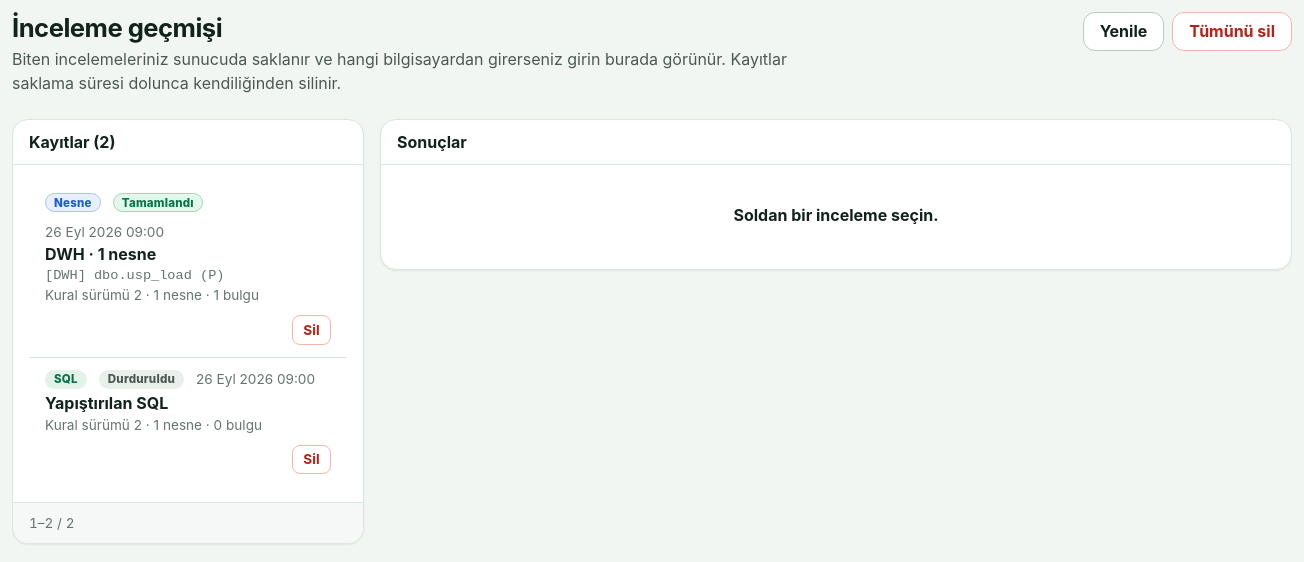
Test: review history page › disables SQL download for a run without stored SQL and explains a stopped run
Click the button with aria-label "Yapıştırılan SQL — Durduruldu, 26 Eyl 2026 09:00".
click(66, 379)  # box 29,358 -> 347,445
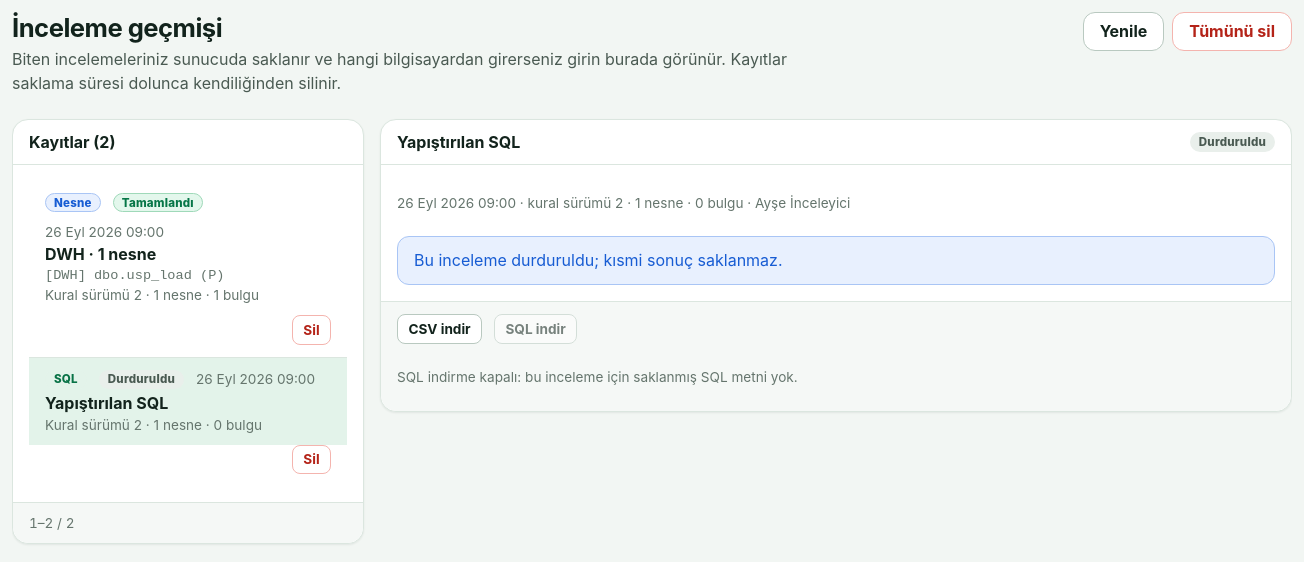
Result: the text "Bu inceleme durduruldu; kısmi sonuç saklanmaz." is shown at 397,236 -> 1275,285
Result: the button "SQL indir" is disabled at 494,314 -> 577,344
Result: the text "SQL indirme kapalı" is shown at 397,370 -> 798,386
